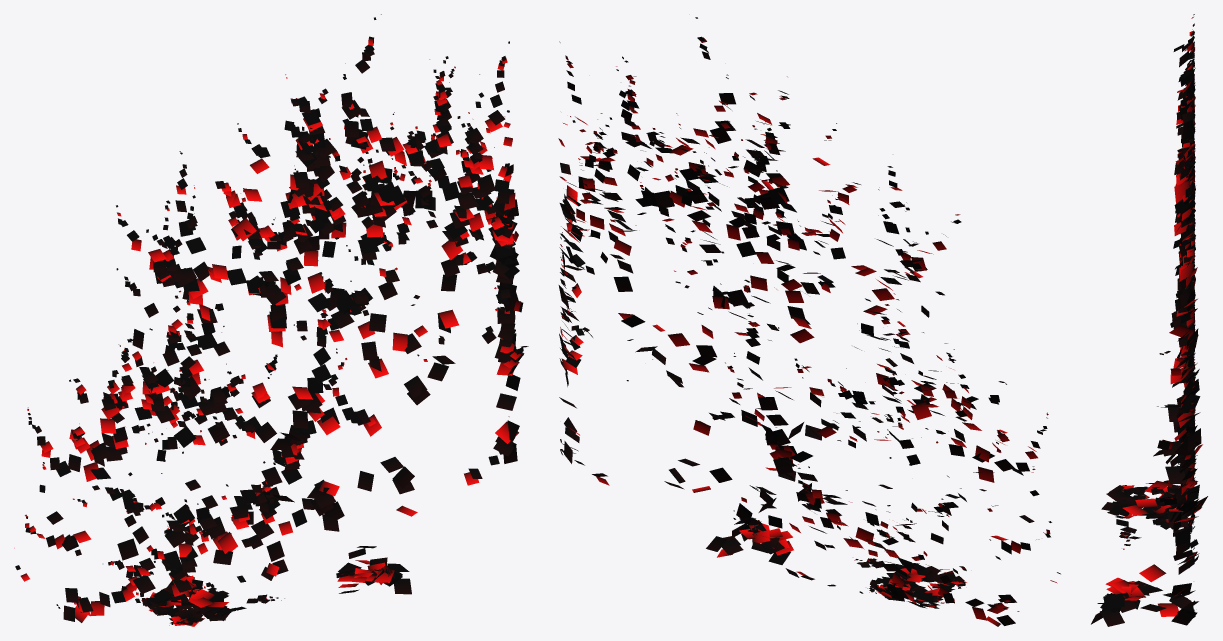
File: Ivy3_Leaf.FBX
3 renders of one model, left to right at view 1: azimuth 30°, elevation 25°; view 2: azimuth 150°, elevation 25°; view 3: azimuth 270°, elevation 25°, orthographic. The views are drawn at different scales.
Parts seen in each view (by area): view 1: Ivy3 (×2); view 2: Ivy3 (×2); view 3: Ivy3 (×2).
Part boxes in pixels (left/top/right/bottom): Ivy3 (×2): left=14, top=14, right=528, bottom=626; Ivy3 (×2): left=558, top=17, right=1060, bottom=626; Ivy3 (×2): left=1091, top=14, right=1207, bottom=626.
Bounding box in the file's own units: 394 × 413 × 71.95.
